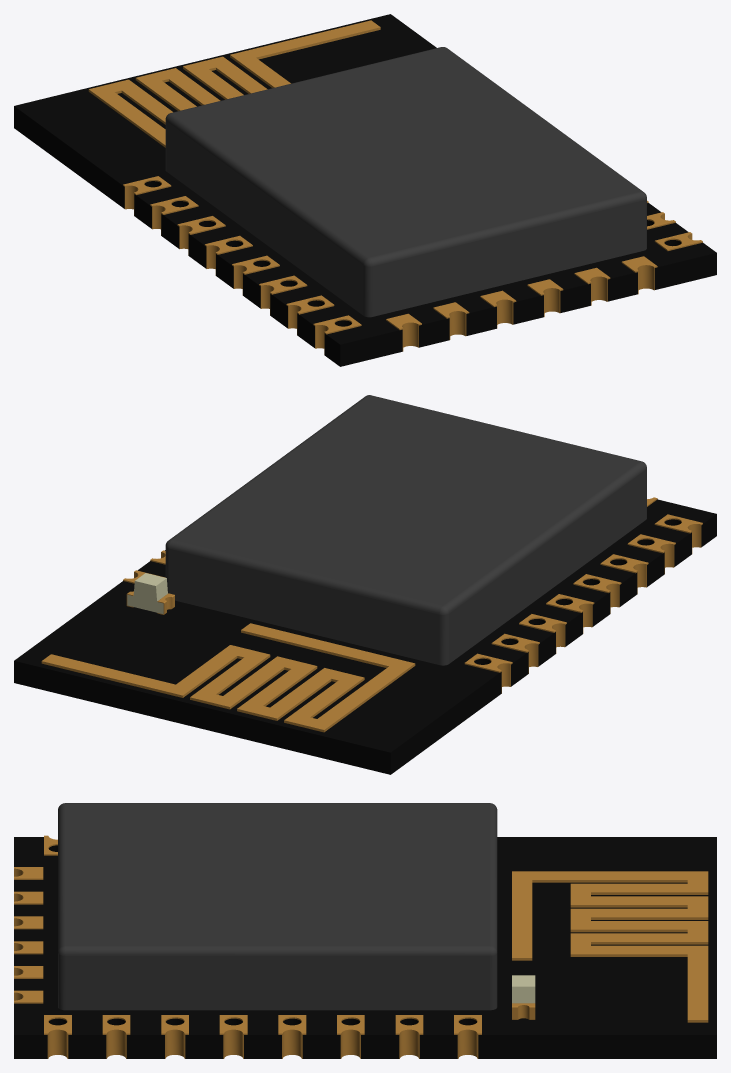
The model's file is esp-12e.glb.
The picture shows the model from 3 angles, top to bottom: view 1: azimuth 30°, elevation 25°; view 2: azimuth 150°, elevation 25°; view 3: azimuth 270°, elevation 25°; orthographic projection. The views are drawn at different scales.
Size of the model in its own units: 16 by 3.2 by 24.
